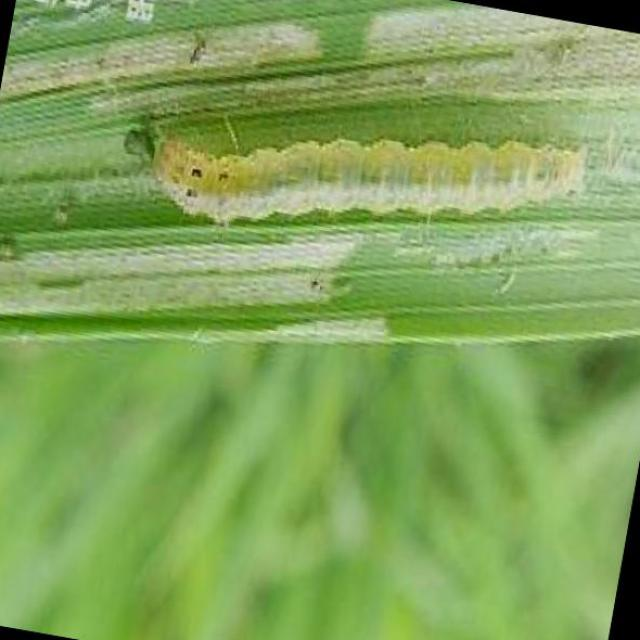leaf folder: (125, 105, 590, 223)
